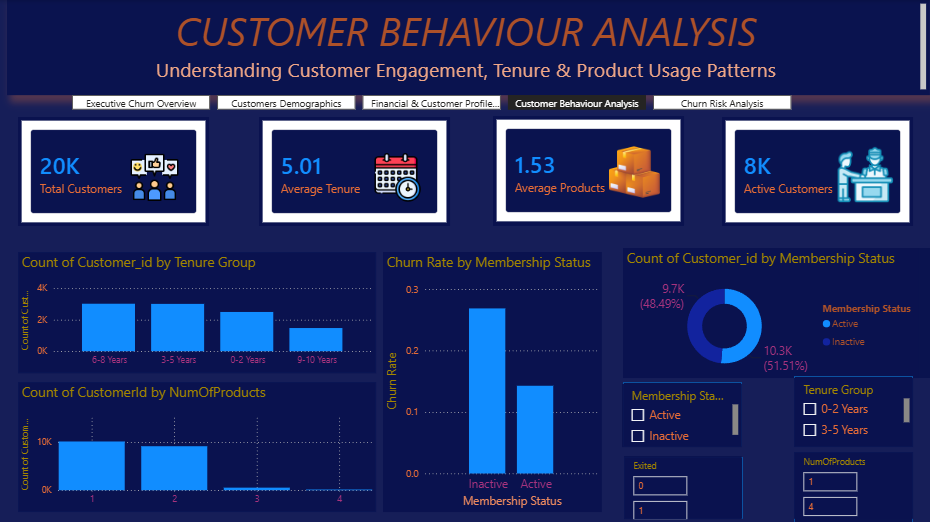

The dashboard page shown, as its layout file describes it:
{"tool":"powerbi","page":{"name":"Customer Behaviour Analysis","canvas":[1280,720],"ordinal":3},"visuals":[{"type":"textbox","box":[9.6,0,1270.4,130.8],"z":0},{"type":"shape","box":[24.8,161,262.9,150],"z":1000},{"type":"shape","box":[356.5,161,262.9,150],"z":2000},{"type":"shape","box":[993.7,161,262.9,150],"z":3000},{"type":"shape","box":[678.5,161,262.9,150],"z":4000},{"type":"cardVisual","fields":{"Data":["ALL MEASURE.Total Customers"]},"box":[24.8,161,263,150],"z":5000},{"type":"cardVisual","fields":{"Data":["ALL MEASURE.Average Tenure"]},"box":[356.5,161,263,150],"z":6000},{"type":"cardVisual","fields":{"Data":["ALL MEASURE.Average Products"]},"box":[678.5,159.7,263,150],"z":7000},{"type":"cardVisual","fields":{"Data":["ALL MEASURE.Active Customers"]},"box":[993.7,161,263,150],"z":8000},{"type":"shape","box":[24.8,346.8,492.7,166.5],"z":9000},{"type":"shape","box":[24.8,525.8,492.7,178.9],"z":10000},{"type":"clusteredColumnChart","fields":{"Category":["Account table.Tenure Group"],"Y":["Count(Account table.Customer_id)"]},"box":[24.8,346.8,492.7,166.5],"z":11000},{"type":"clusteredColumnChart","fields":{"Y":["CountNonNull(churn_modelling_db.CustomerId)"],"Category":["churn_modelling_db.NumOfProducts"]},"box":[24.8,525.8,492.7,178.9],"z":12000},{"type":"shape","box":[857.5,341.3,422.5,178.9],"z":13000},{"type":"donutChart","fields":{"Category":["Account table.Membership Status"],"Y":["CountNonNull(Account table.Customer_id)"]},"box":[857.5,341.3,407.4,178.9],"z":14000},{"type":"shape","box":[527.1,346.8,301.4,357.8],"z":15000},{"type":"columnChart","fields":{"Y":["ALL MEASURE.Churn Rate"],"Category":["churn_modelling_db.Membership Status"]},"box":[527.1,346.8,301.4,357.8],"z":16000},{"type":"shape","box":[1092.8,517.5,163.8,97.7],"z":17000},{"type":"shape","box":[858.8,629,163.8,85.3],"z":18000},{"type":"shape","box":[857.5,525.8,163.8,89.5],"z":19000},{"type":"shape","box":[1092.8,622.1,163.8,97.7],"z":20000},{"type":"slicer","fields":{"Values":["churn_modelling_db.Membership Status"]},"box":[856.1,528.5,165.2,86.7],"z":21000},{"type":"slicer","fields":{"Values":["Account table.Tenure Group"]},"box":[1092.8,520.3,163.8,95],"z":22000},{"type":"slicer","fields":{"Values":["churn_modelling_db.NumOfProducts"]},"box":[1092.8,622.1,163.8,92.2],"z":23000},{"type":"slicer","fields":{"Values":["churn_modelling_db.Exited"]},"box":[858.8,627.6,162.4,86.7],"z":24000},{"type":"pageNavigator","box":[99.1,130.8,993.7,20.6],"z":25000},{"type":"image","box":[170.7,210.6,84,67.4],"z":26000},{"type":"image","box":[498.2,210.6,97.7,67.4],"z":27000},{"type":"image","box":[838.2,191.3,70.2,90.8],"z":28000},{"type":"image","box":[1147.9,198.2,85.3,84],"z":29000}]}

Visuals, with their boxes in screenshot pixels (x1, y1, x2, y2), scaled from the page's 1280x720 canvas onto the 930x522 screenshot:
textbox: {"left": 7, "top": 0, "right": 929, "bottom": 95}
shape: {"left": 18, "top": 117, "right": 209, "bottom": 225}
shape: {"left": 259, "top": 117, "right": 450, "bottom": 225}
shape: {"left": 722, "top": 117, "right": 913, "bottom": 225}
shape: {"left": 493, "top": 117, "right": 684, "bottom": 225}
cardVisual - ALL MEASURE.Total Customers: {"left": 18, "top": 117, "right": 209, "bottom": 225}
cardVisual - ALL MEASURE.Average Tenure: {"left": 259, "top": 117, "right": 450, "bottom": 225}
cardVisual - ALL MEASURE.Average Products: {"left": 493, "top": 116, "right": 684, "bottom": 225}
cardVisual - ALL MEASURE.Active Customers: {"left": 722, "top": 117, "right": 913, "bottom": 225}
shape: {"left": 18, "top": 251, "right": 376, "bottom": 372}
shape: {"left": 18, "top": 381, "right": 376, "bottom": 511}
clusteredColumnChart - Account table.Tenure Group x Count(Account table.Customer_id): {"left": 18, "top": 251, "right": 376, "bottom": 372}
clusteredColumnChart - CountNonNull(churn_modelling_db.CustomerId) x churn_modelling_db.NumOfProducts: {"left": 18, "top": 381, "right": 376, "bottom": 511}
shape: {"left": 623, "top": 247, "right": 929, "bottom": 377}
donutChart - Account table.Membership Status x CountNonNull(Account table.Customer_id): {"left": 623, "top": 247, "right": 919, "bottom": 377}
shape: {"left": 383, "top": 251, "right": 602, "bottom": 511}
columnChart - ALL MEASURE.Churn Rate x churn_modelling_db.Membership Status: {"left": 383, "top": 251, "right": 602, "bottom": 511}
shape: {"left": 794, "top": 375, "right": 913, "bottom": 446}
shape: {"left": 624, "top": 456, "right": 743, "bottom": 518}
shape: {"left": 623, "top": 381, "right": 742, "bottom": 446}
shape: {"left": 794, "top": 451, "right": 913, "bottom": 521}
slicer - churn_modelling_db.Membership Status: {"left": 622, "top": 383, "right": 742, "bottom": 446}
slicer - Account table.Tenure Group: {"left": 794, "top": 377, "right": 913, "bottom": 446}
slicer - churn_modelling_db.NumOfProducts: {"left": 794, "top": 451, "right": 913, "bottom": 518}
slicer - churn_modelling_db.Exited: {"left": 624, "top": 455, "right": 742, "bottom": 518}
pageNavigator: {"left": 72, "top": 95, "right": 794, "bottom": 110}
image: {"left": 124, "top": 153, "right": 185, "bottom": 202}
image: {"left": 362, "top": 153, "right": 433, "bottom": 202}
image: {"left": 609, "top": 139, "right": 660, "bottom": 205}
image: {"left": 834, "top": 144, "right": 896, "bottom": 205}
